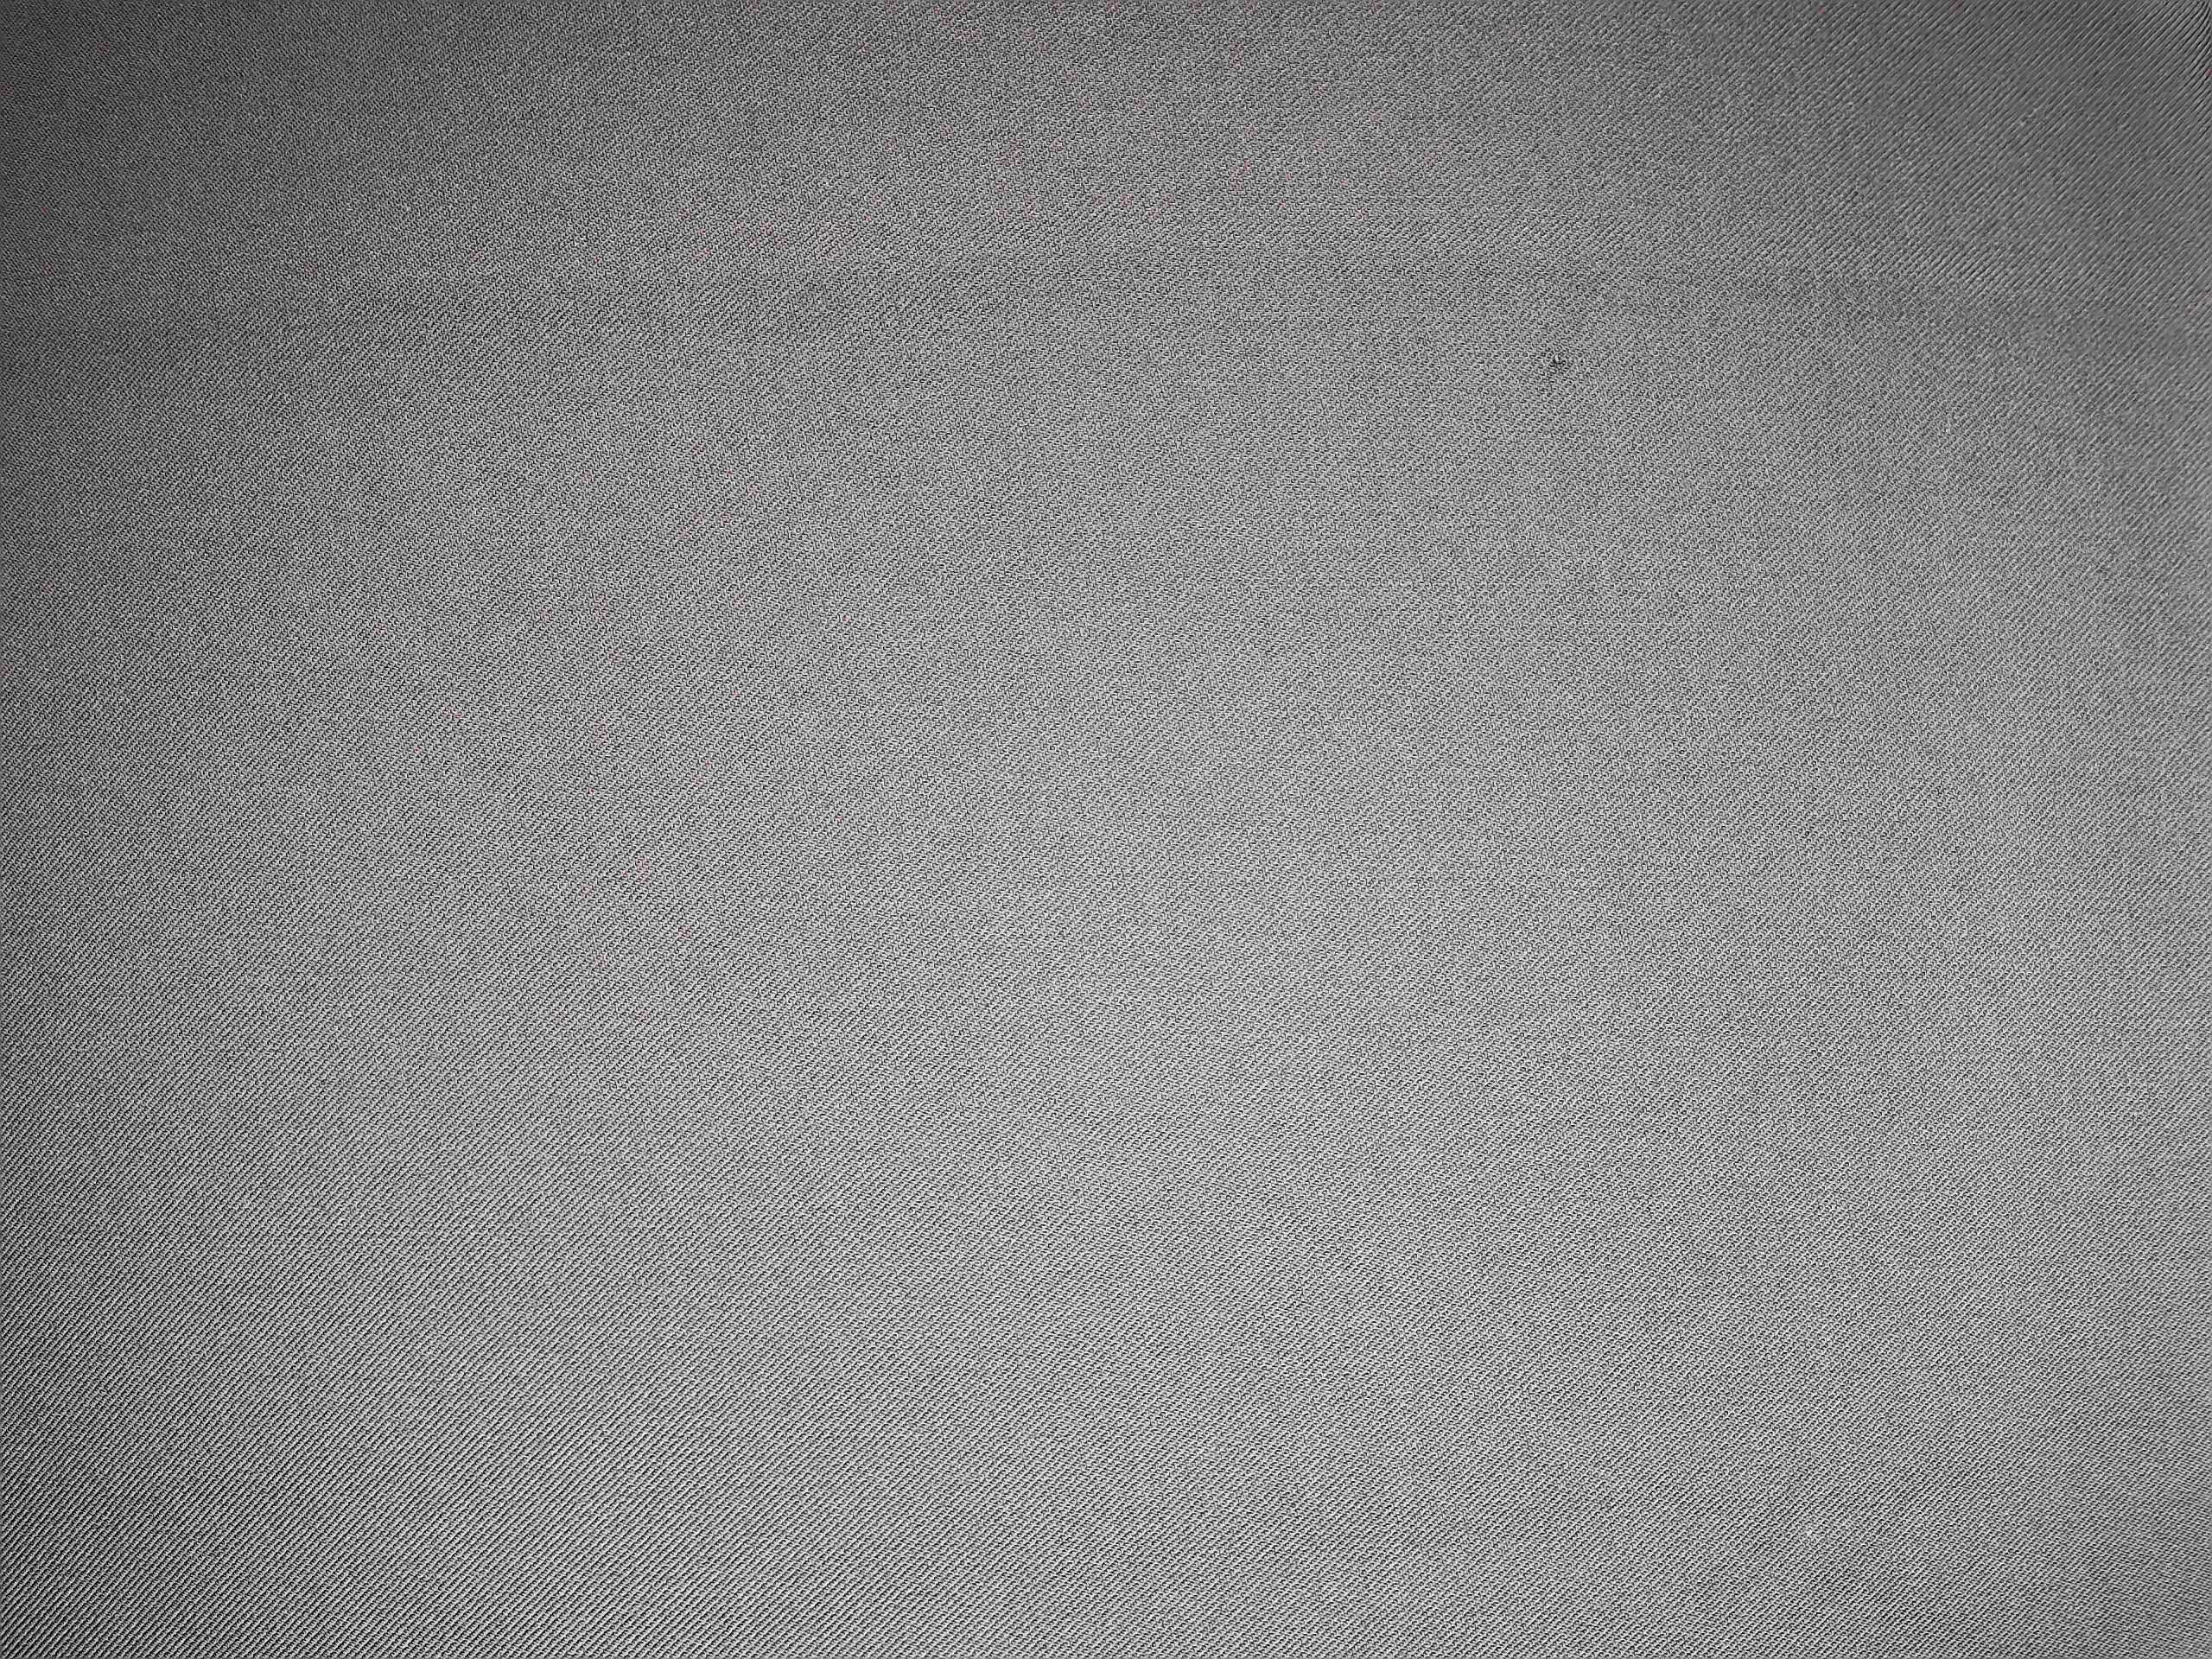others: (1529, 331, 1590, 396)
